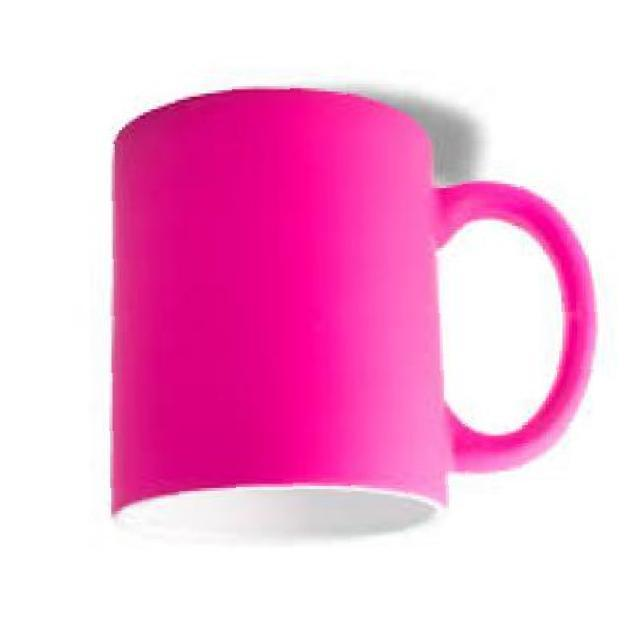cup: (86, 73, 611, 554)
